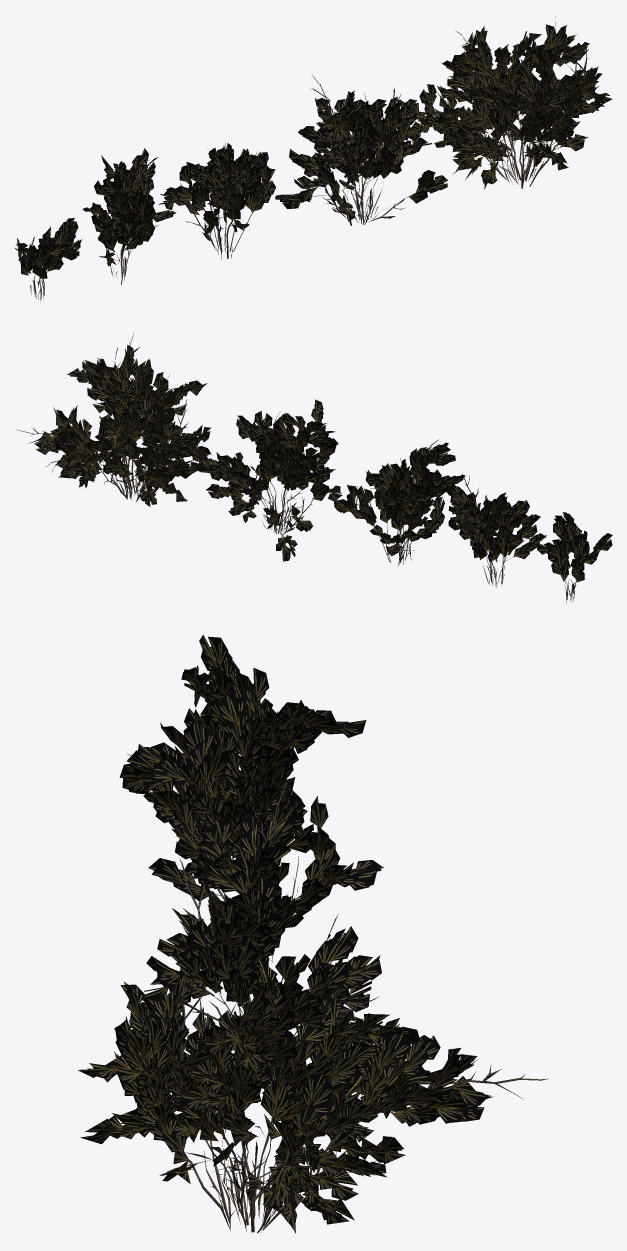
Rendered from rooibos.glb.
The picture shows the model from 3 angles, top to bottom: view 1: azimuth 30°, elevation 25°; view 2: azimuth 150°, elevation 25°; view 3: azimuth 270°, elevation 25°; orthographic projection. The views are drawn at different scales.
Parts seen in each view (by area): view 1: wild_rooibos_bush_a, wild_rooibos_bush_b, wild_rooibos_bush_c, wild_rooibos_bush_d, wild_rooibos_bush_e; view 2: wild_rooibos_bush_a, wild_rooibos_bush_b, wild_rooibos_bush_c, wild_rooibos_bush_d, wild_rooibos_bush_e; view 3: wild_rooibos_bush_a, wild_rooibos_bush_b, wild_rooibos_bush_c, wild_rooibos_bush_d, wild_rooibos_bush_e.
Boxes of the visible parts, x1,y1,x2,y2 form: wild_rooibos_bush_a: [397, 17, 612, 189]; wild_rooibos_bush_b: [275, 75, 447, 225]; wild_rooibos_bush_c: [158, 143, 275, 259]; wild_rooibos_bush_d: [82, 148, 176, 284]; wild_rooibos_bush_e: [14, 218, 81, 300]; wild_rooibos_bush_a: [16, 334, 219, 506]; wild_rooibos_bush_b: [201, 399, 342, 561]; wild_rooibos_bush_c: [328, 439, 465, 565]; wild_rooibos_bush_d: [445, 473, 546, 587]; wild_rooibos_bush_e: [537, 512, 612, 603]; wild_rooibos_bush_a: [78, 958, 548, 1233]; wild_rooibos_bush_b: [129, 779, 381, 1051]; wild_rooibos_bush_c: [119, 718, 383, 962]; wild_rooibos_bush_d: [160, 668, 366, 860]; wild_rooibos_bush_e: [181, 634, 272, 773].
Size of the model in its own units: 2.27 by 0.5405 by 0.8432.
Materials: 2 (2 with a texture image).
